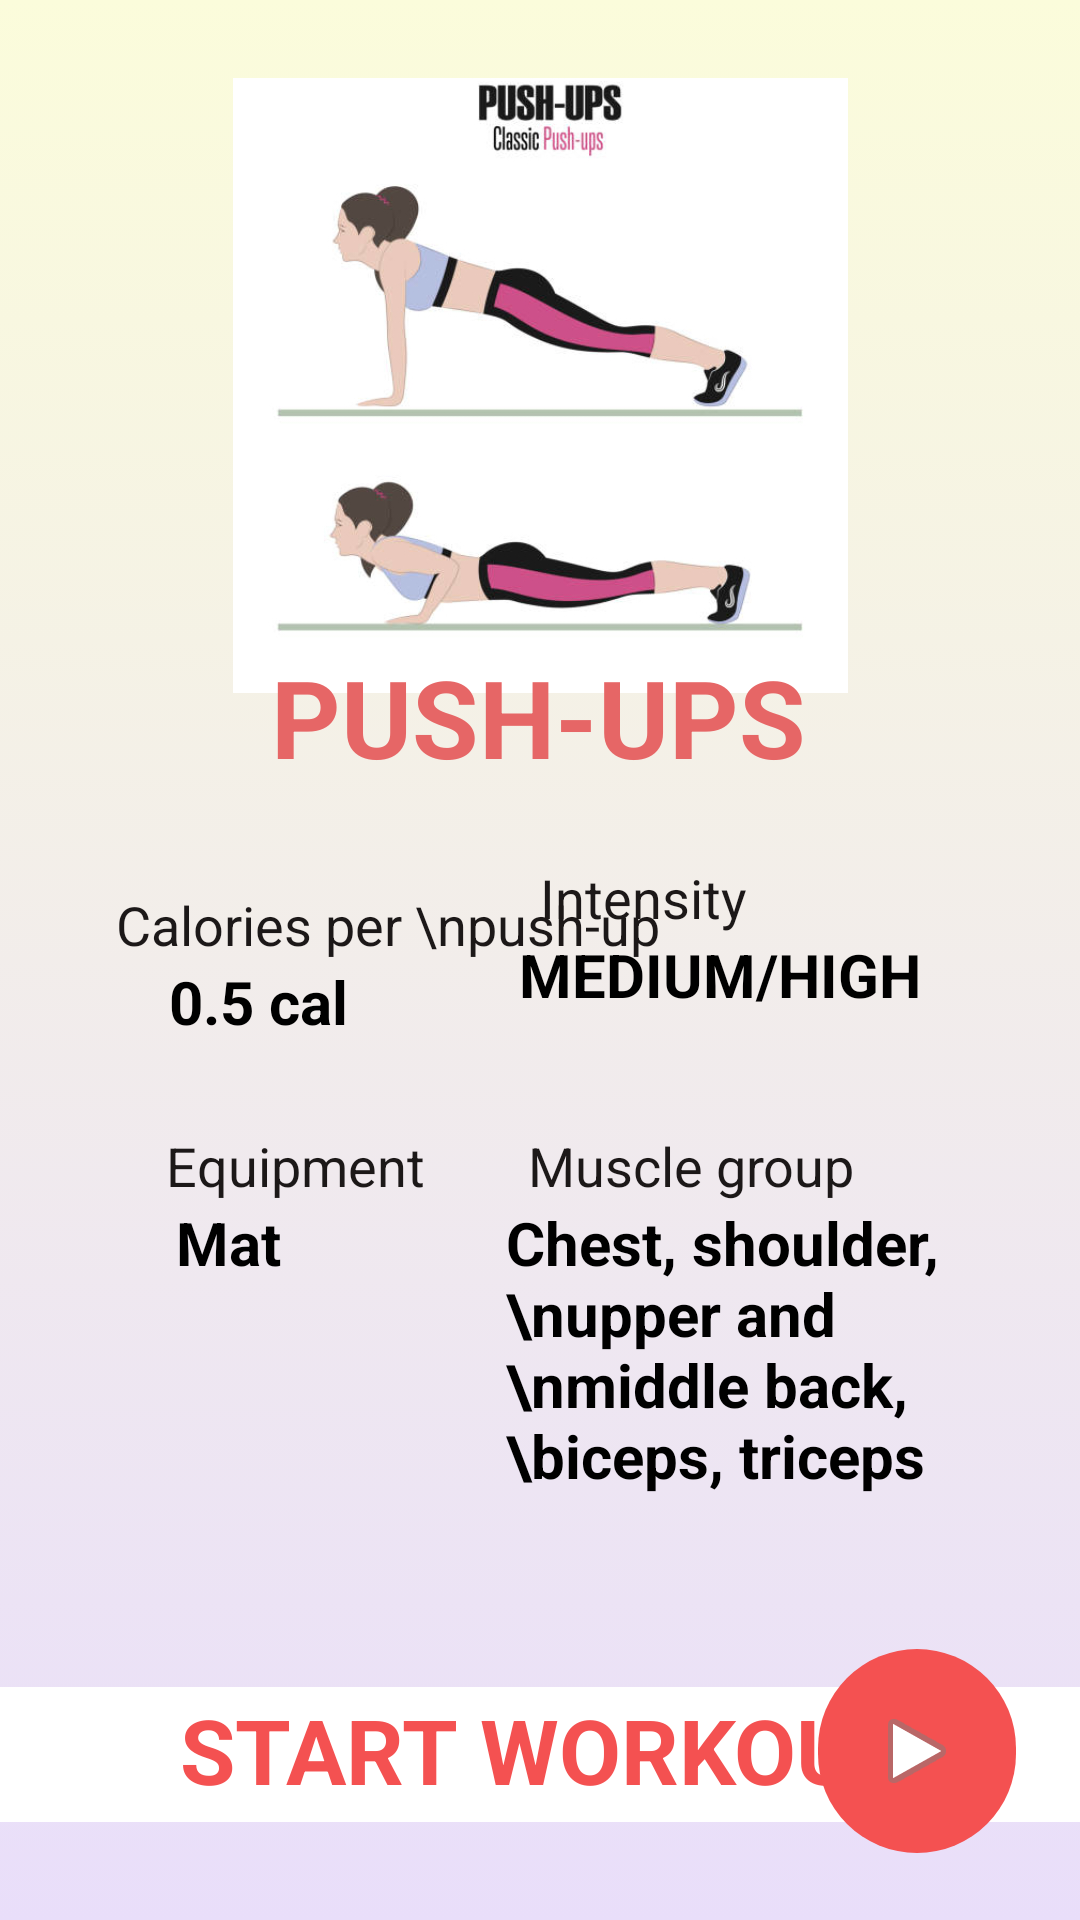

Icons on this 1080 x 1920 Android screen, each with its box as (x1, y1, x2, y2):
play: (818, 1649, 1016, 1853)
